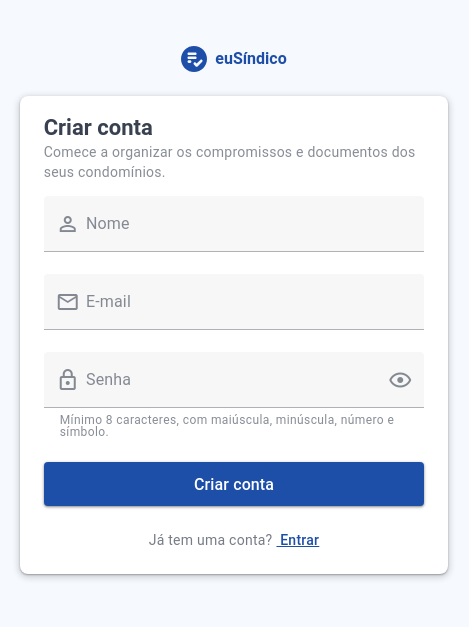
Registrar › exibe mensagem de e-mail já cadastrado em conflito (409)
Type "João da Silva" into the element with test id "nome". click: [235, 235]
box: [44, 196, 425, 274]
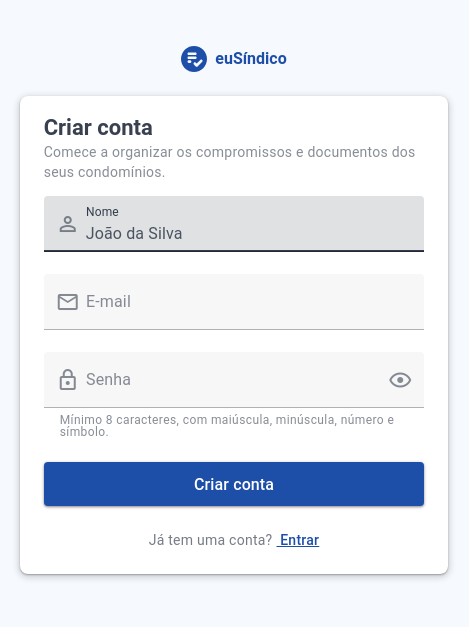
Type "sindico@exemplo.com" into the element with test id "email". click: [235, 313]
box: [44, 274, 425, 352]
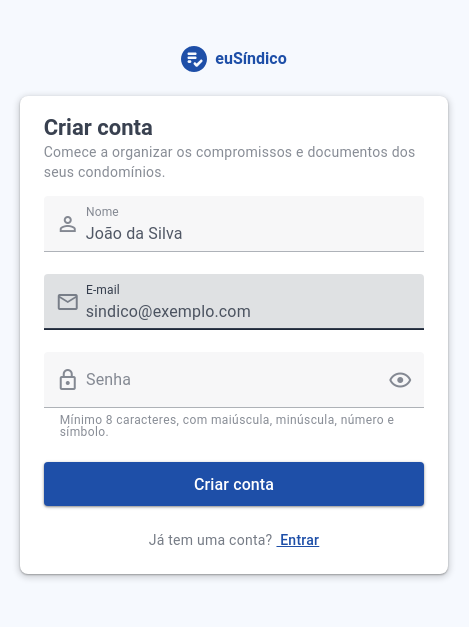
Type "SenhaForte1!" into the element with test id "senha". click: [235, 395]
box: [44, 352, 425, 438]
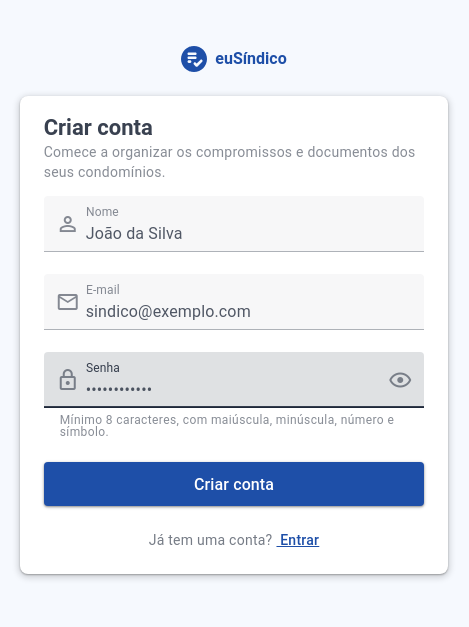
Click the button with test id "btn-registrar". click: [235, 484]
box: [44, 462, 425, 506]
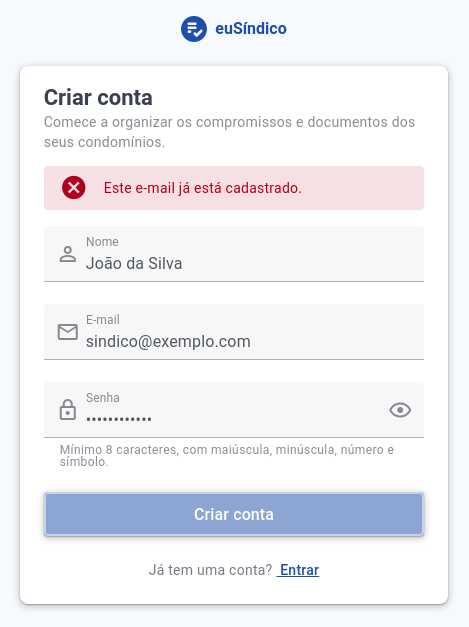
expect the message "Este e-mail já está cadastrado." is shown: met, box [44, 166, 424, 210]
expect the text with test id "erro-registrar" shows "já está cadastrado": met, box [104, 180, 303, 196]
